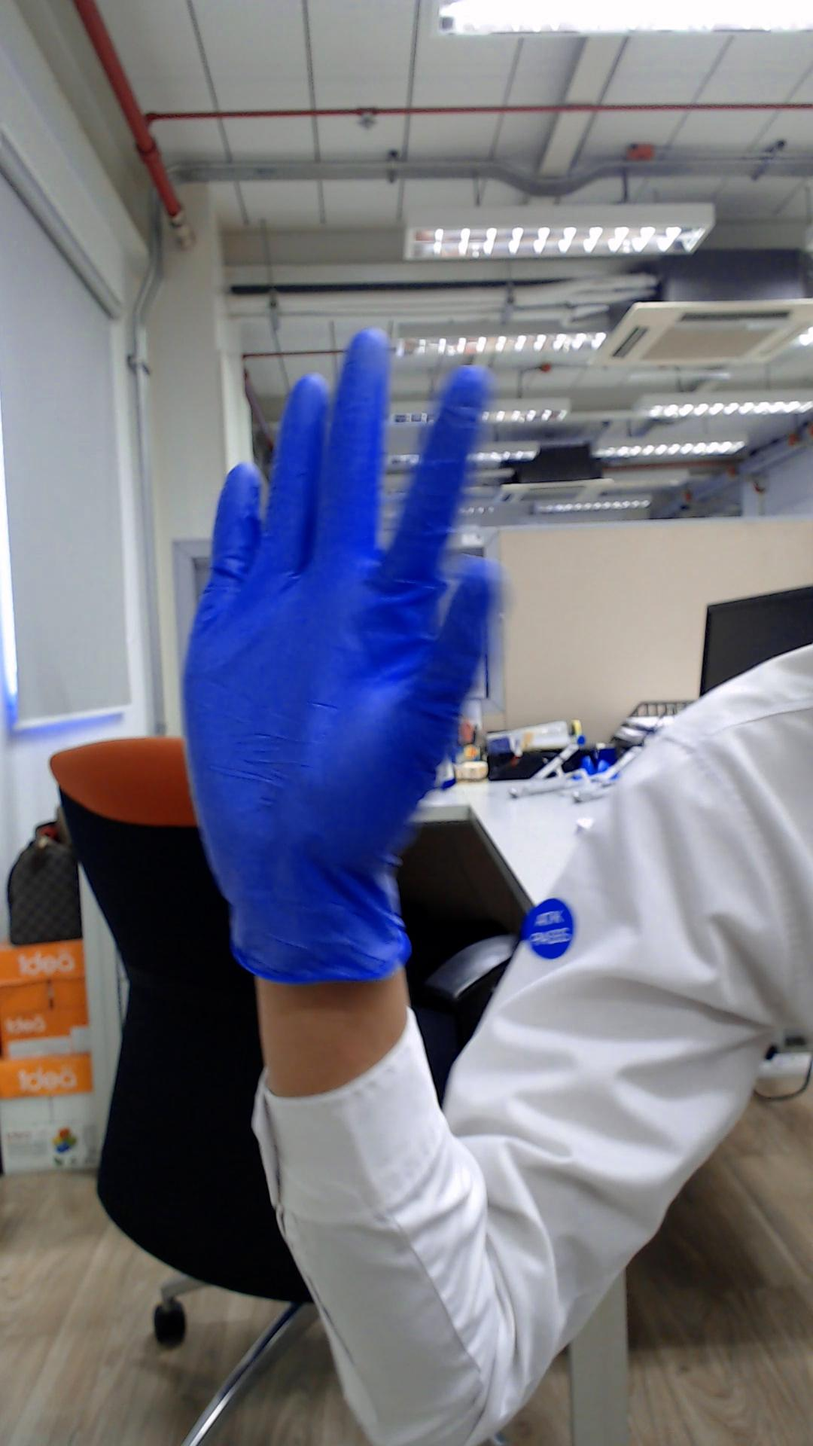gloves: (151, 287, 536, 854)
